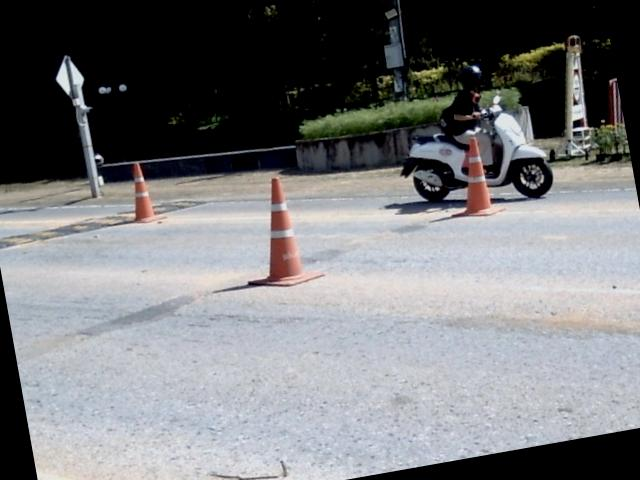helmet: (458, 64, 481, 87)
motor: (476, 94, 552, 197), (401, 132, 469, 200)
person: (442, 66, 481, 144), (477, 134, 492, 172)
